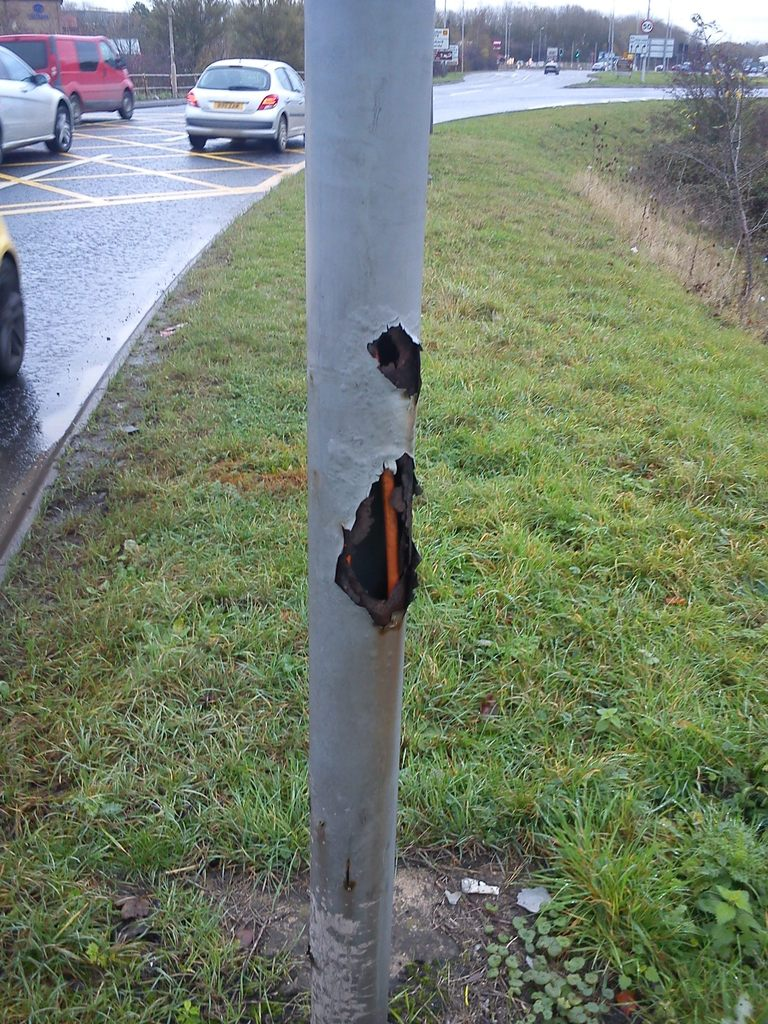Car: (183, 55, 300, 154), (0, 48, 78, 151), (0, 217, 30, 382), (543, 58, 558, 72), (595, 60, 603, 68)
